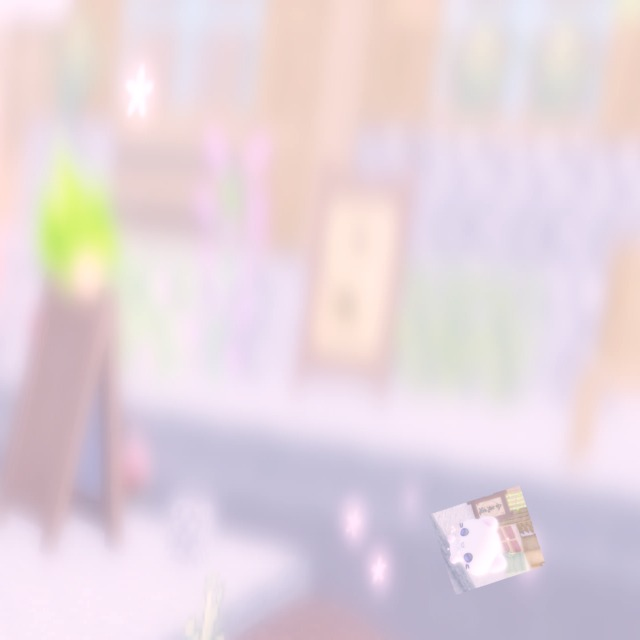urso_branco: (429, 485, 546, 595)
